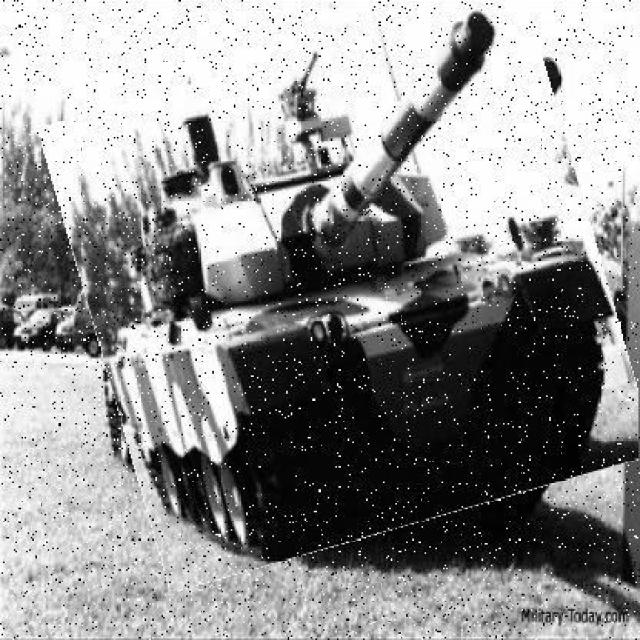Tank: (69, 21, 629, 564)
